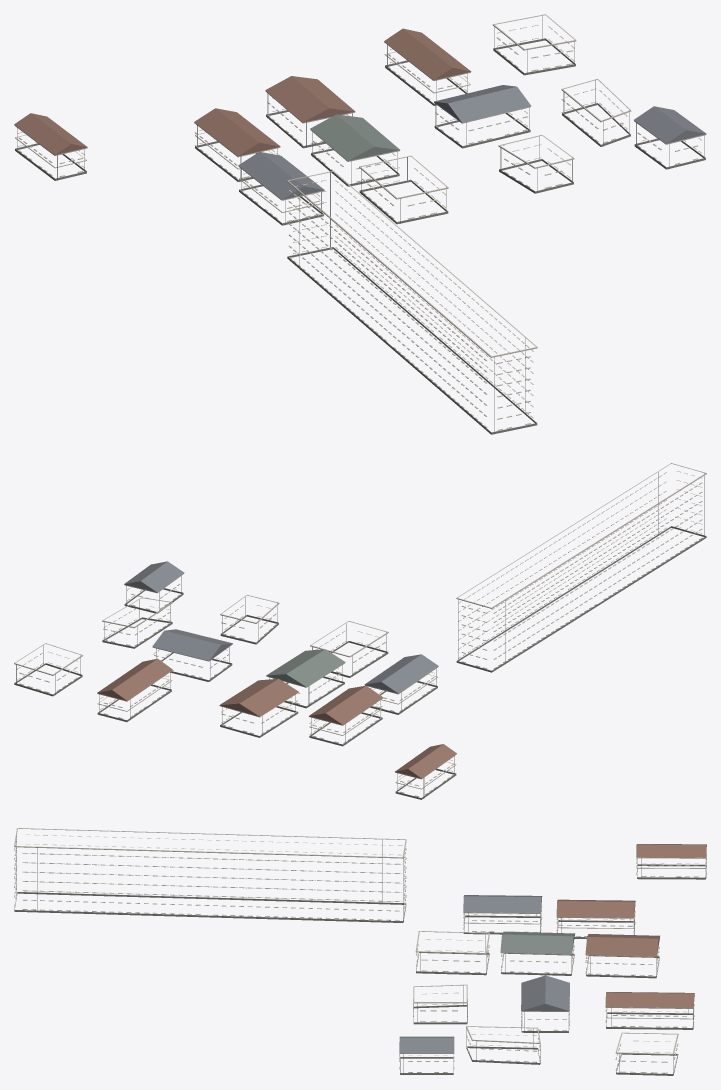
The model's file is district_0_2.glb.
3 views of the same model, one above another, from view 1: azimuth 30°, elevation 25°; view 2: azimuth 150°, elevation 25°; view 3: azimuth 270°, elevation 25° (orthographic). The views are drawn at different scales.
Visible parts, largest first — view 1: MasonryTrim, RoofMetal, MetalDetails; view 2: MasonryTrim, RoofMetal, MetalDetails; view 3: MasonryTrim, RoofMetal, MetalDetails.
Part boxes in pixels (<box>): MasonryTrim: <box>14,14,706,434</box>; RoofMetal: <box>14,28,706,199</box>; MetalDetails: <box>17,16,704,433</box>; MasonryTrim: <box>14,463,706,799</box>; RoofMetal: <box>97,561,456,778</box>; MetalDetails: <box>16,472,704,798</box>; MasonryTrim: <box>14,828,706,1075</box>; RoofMetal: <box>399,844,706,1053</box>; MetalDetails: <box>16,836,706,1074</box>.
Bounding box in the file's own units: 155 × 22.5 × 216.
